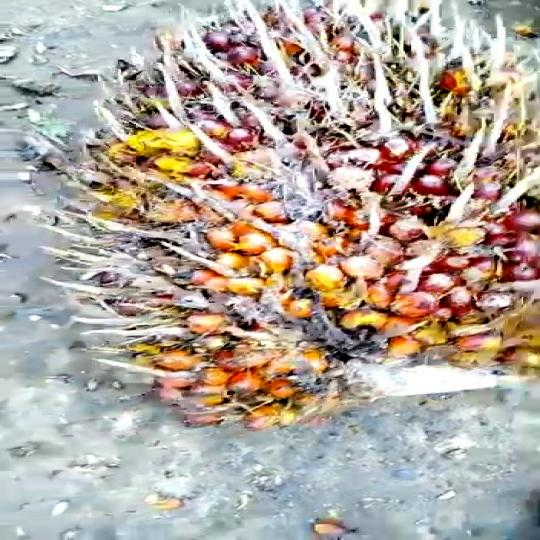masak: (35, 0, 540, 431)
